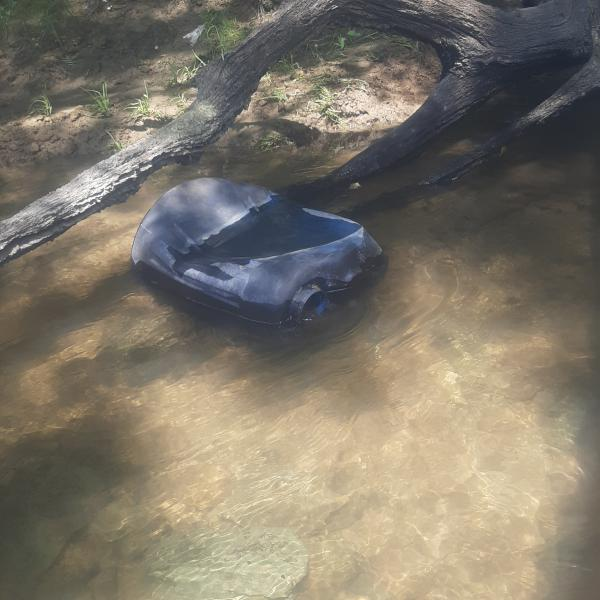bottles: (176, 209, 328, 470)
